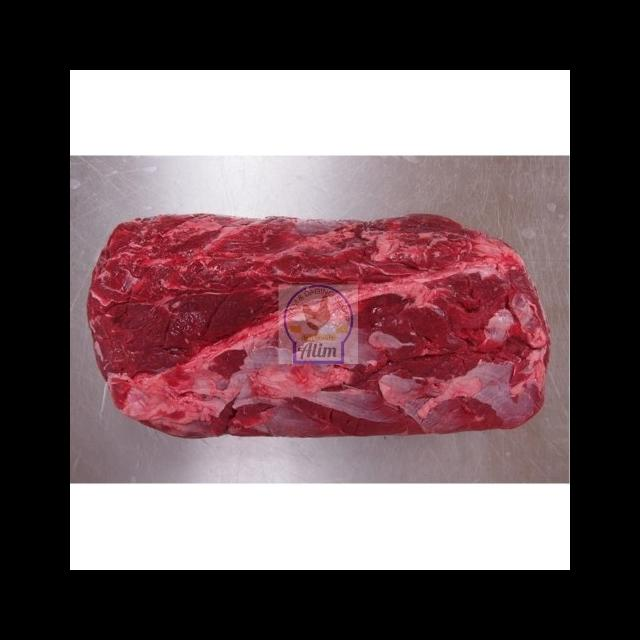beef: (80, 199, 563, 465)
